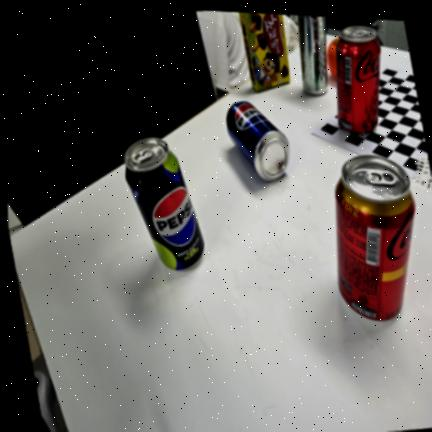can_coke_decaf: (333, 155, 417, 322)
can_coke_zero: (335, 25, 381, 134)
can_pepsi: (226, 99, 288, 181)
can_pepsi_zero: (124, 137, 204, 270)
